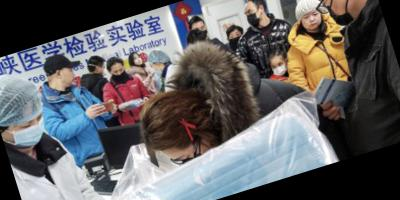with_mask: (5, 109, 52, 152), (243, 4, 265, 27), (269, 58, 290, 79), (110, 66, 129, 84), (227, 30, 245, 48), (192, 24, 210, 41), (149, 60, 165, 78), (98, 63, 110, 78)
without_mask: (299, 9, 326, 33), (60, 66, 79, 88), (133, 54, 145, 67)
